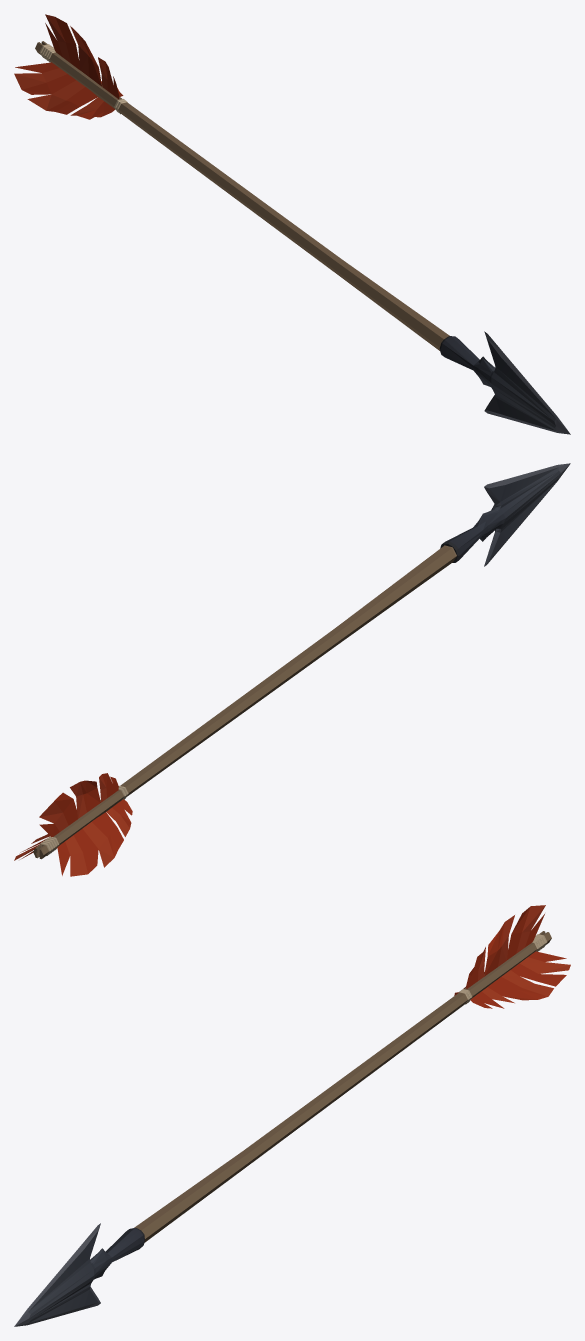
Rendered from vTipSharpArrow.glb.
The picture shows the model from 3 angles, top to bottom: view 1: azimuth 30°, elevation 25°; view 2: azimuth 150°, elevation 25°; view 3: azimuth 330°, elevation 25°; orthographic projection.
Parts seen in each view (by area): view 1: vTipSharpArrow; view 2: vTipSharpArrow; view 3: vTipSharpArrow.
Part boxes in pixels (<box>): vTipSharpArrow: <box>14,14,570,434</box>; vTipSharpArrow: <box>14,463,570,876</box>; vTipSharpArrow: <box>14,905,570,1326</box>.
Bounding box in the file's own units: 0.0882 × 0.0898 × 1.03.
